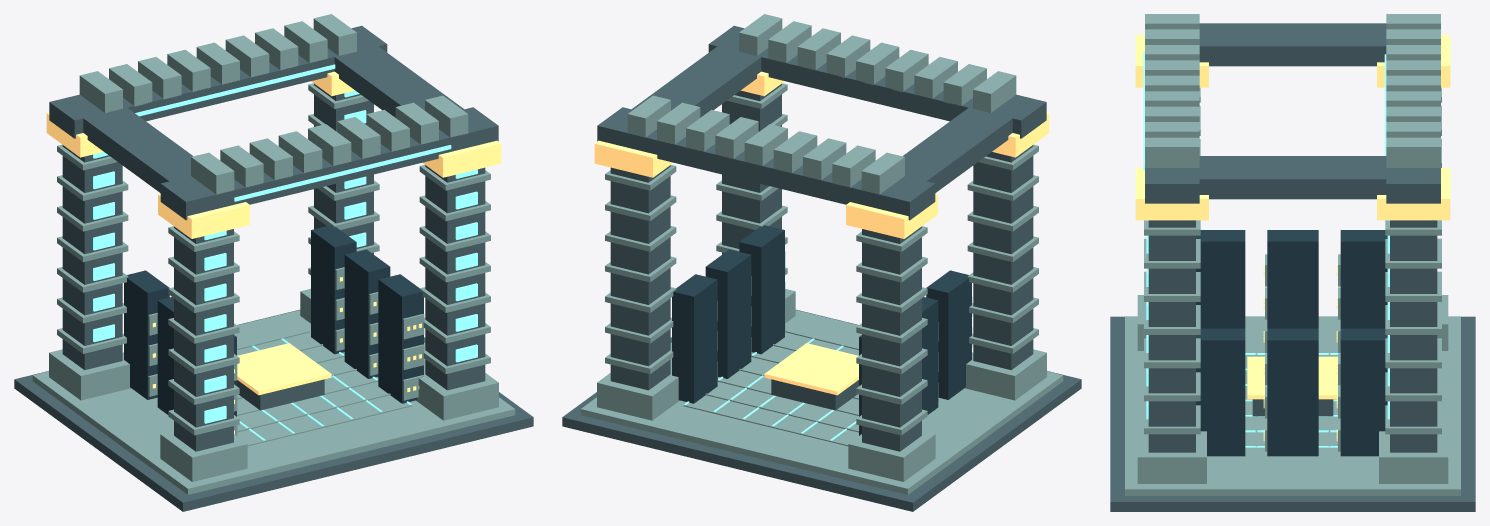
The model's file is transformer-core.glb.
3 renders of one model, left to right at view 1: azimuth 30°, elevation 25°; view 2: azimuth 150°, elevation 25°; view 3: azimuth 270°, elevation 25°, orthographic. The views are drawn at different scales.
Parts seen in each view (by area): view 1: Weathered copper, Deep slate, Recessed panels, Attention cyan, Signal gold; view 2: Weathered copper, Deep slate, Recessed panels, Signal gold, Attention cyan; view 3: Weathered copper, Deep slate, Recessed panels, Signal gold, Attention cyan.
Boxes of the visible parts, x1=… form: Weathered copper: x1=32, y1=14, x2=515, y2=494; Deep slate: x1=14, y1=25, x2=533, y2=511; Recessed panels: x1=124, y1=225, x2=423, y2=416; Attention cyan: x1=93, y1=64, x2=477, y2=440; Signal gold: x1=46, y1=71, x2=501, y2=434; Weathered copper: x1=580, y1=14, x2=1063, y2=494; Deep slate: x1=562, y1=25, x2=1081, y2=511; Recessed panels: x1=672, y1=225, x2=971, y2=435; Signal gold: x1=594, y1=71, x2=1049, y2=395; Attention cyan: x1=683, y1=338, x2=856, y2=440; Weathered copper: x1=1125, y1=14, x2=1460, y2=495; Deep slate: x1=1110, y1=23, x2=1475, y2=511; Recessed panels: x1=1196, y1=230, x2=1387, y2=456; Signal gold: x1=1135, y1=35, x2=1450, y2=441; Attention cyan: x1=1143, y1=52, x2=1389, y2=447.
Bounding box in the file's own units: 12 × 10.22 × 10.
